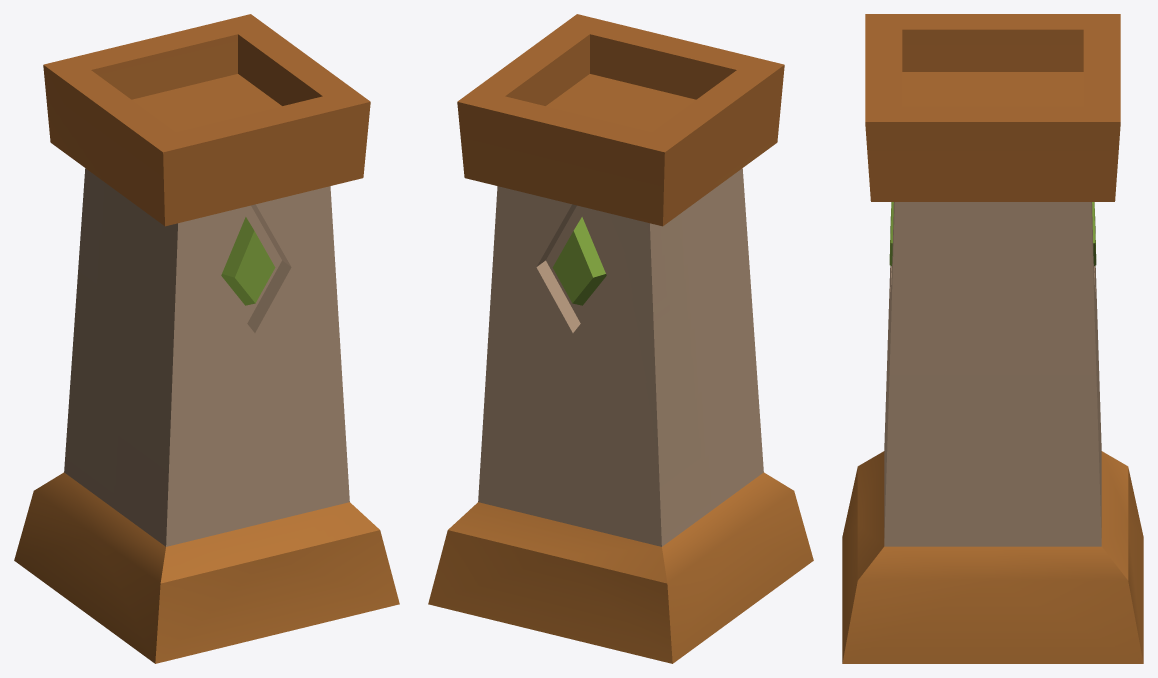
Rendered from Altar_square_B.fbx.
3 views of the same model, side by side, from view 1: azimuth 30°, elevation 25°; view 2: azimuth 150°, elevation 25°; view 3: azimuth 270°, elevation 25° (orthographic). The views are drawn at different scales.
Parts seen in each view (by area): view 1: Altar_square_B; view 2: Altar_square_B; view 3: Altar_square_B.
Part boxes in pixels (x1=…): Altar_square_B: x1=14, y1=14, x2=399, y2=663; Altar_square_B: x1=428, y1=14, x2=813, y2=663; Altar_square_B: x1=842, y1=14, x2=1143, y2=663.
Bounding box in the file's own units: 50.58 × 98.67 × 50.58.
